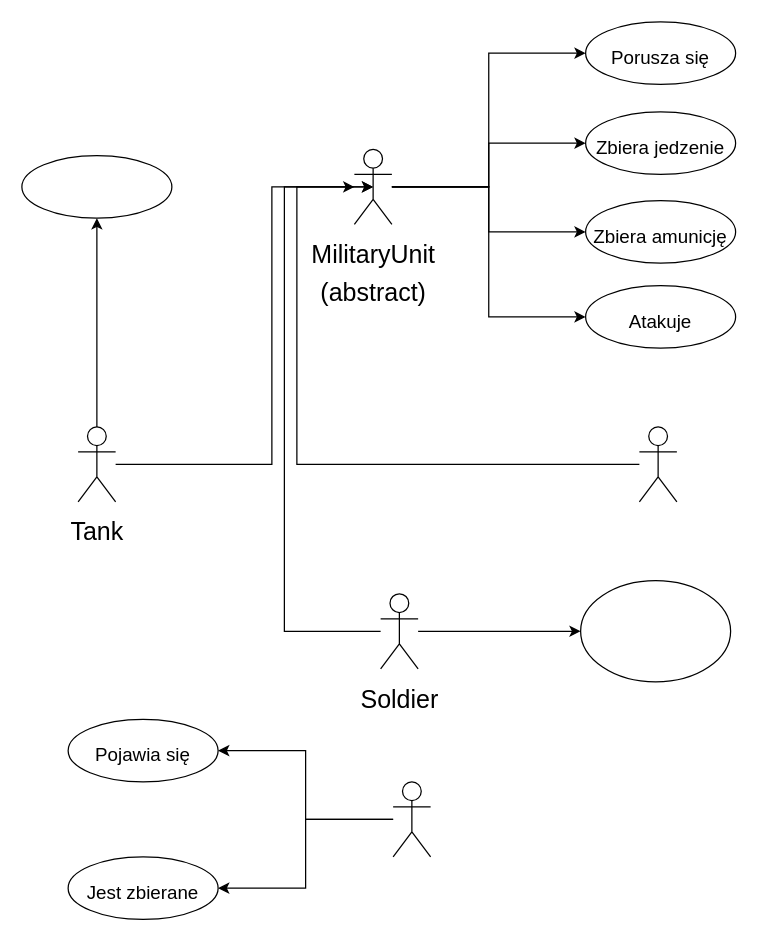
Some shapes in this 758 by 941 pixel diagram are drawn without their labels. Here are the shapes that lost their labels. From the top down, the centre of each, then its label:
At point (96, 186): "Zbiera paliwo".
At point (657, 464): "Gunner".
At point (655, 630): "Wchodzi do budynku".
At point (411, 819): "Drop".
